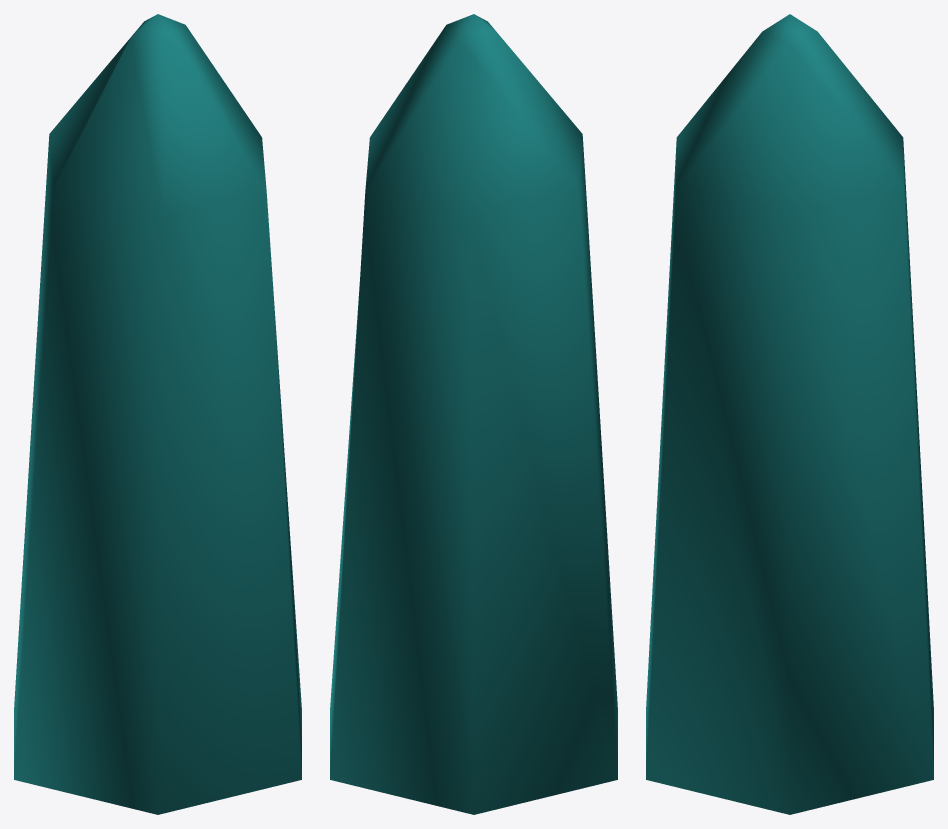
File: chess_piece_queen_collider.fbx
3 views of the same model, side by side, from view 1: azimuth 30°, elevation 25°; view 2: azimuth 150°, elevation 25°; view 3: azimuth 270°, elevation 25° (orthographic).
Visible parts, largest first — view 1: chess_piece_queen_collider; view 2: chess_piece_queen_collider; view 3: chess_piece_queen_collider.
Part boxes in pixels (x1,y1,x2,y2): chess_piece_queen_collider: [14, 14, 301, 814]; chess_piece_queen_collider: [330, 14, 617, 814]; chess_piece_queen_collider: [646, 14, 933, 814].
Size of the model in its own units: 3.97 by 9.62 by 3.44.
